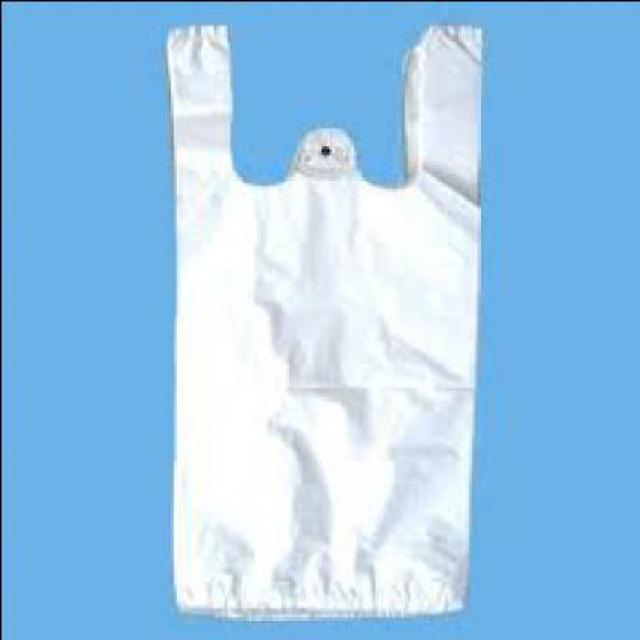PLASTIC: (166, 21, 485, 618)
